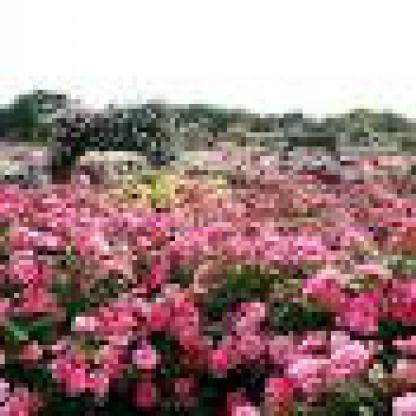Rose-Mawar: (1, 147, 413, 413)
